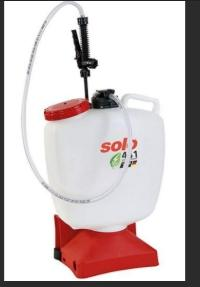PULVERISATEUR: (19, 0, 200, 287)
